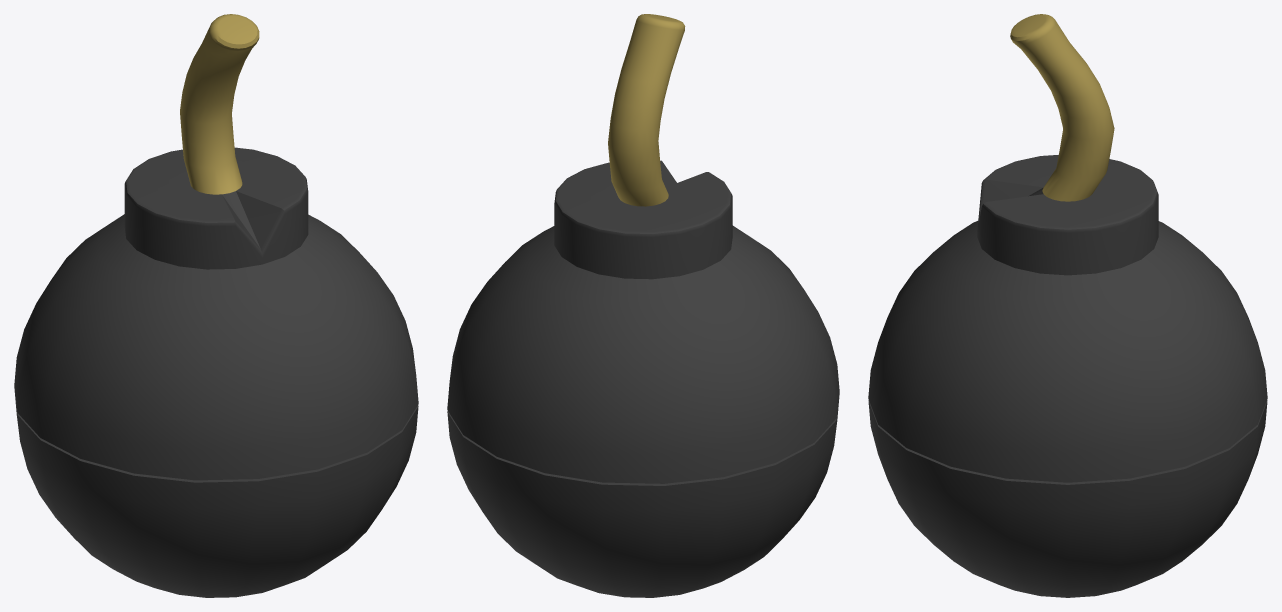
Rendered from Bomb.fbx.
The picture shows the model from 3 angles, left to right: view 1: azimuth 30°, elevation 25°; view 2: azimuth 150°, elevation 25°; view 3: azimuth 270°, elevation 25°; orthographic projection. The views are drawn at different scales.
Visible parts, largest first — view 1: pSphere1; view 2: pSphere1; view 3: pSphere1.
Part boxes in pixels (bbox=[...]): pSphere1: bbox=[14, 14, 418, 597]; pSphere1: bbox=[447, 14, 839, 597]; pSphere1: bbox=[868, 14, 1267, 597].
Bounding box in the file's own units: 2.79 × 4.32 × 2.79.
